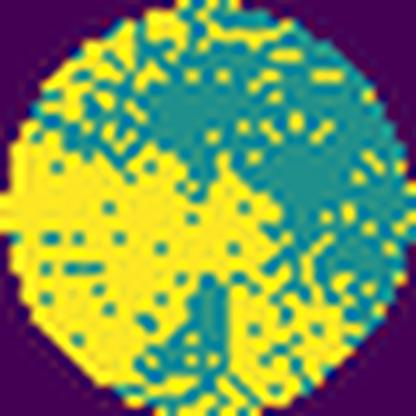Edge-Loc: (0, 110, 363, 416), (40, 17, 132, 133), (145, 5, 190, 63)
